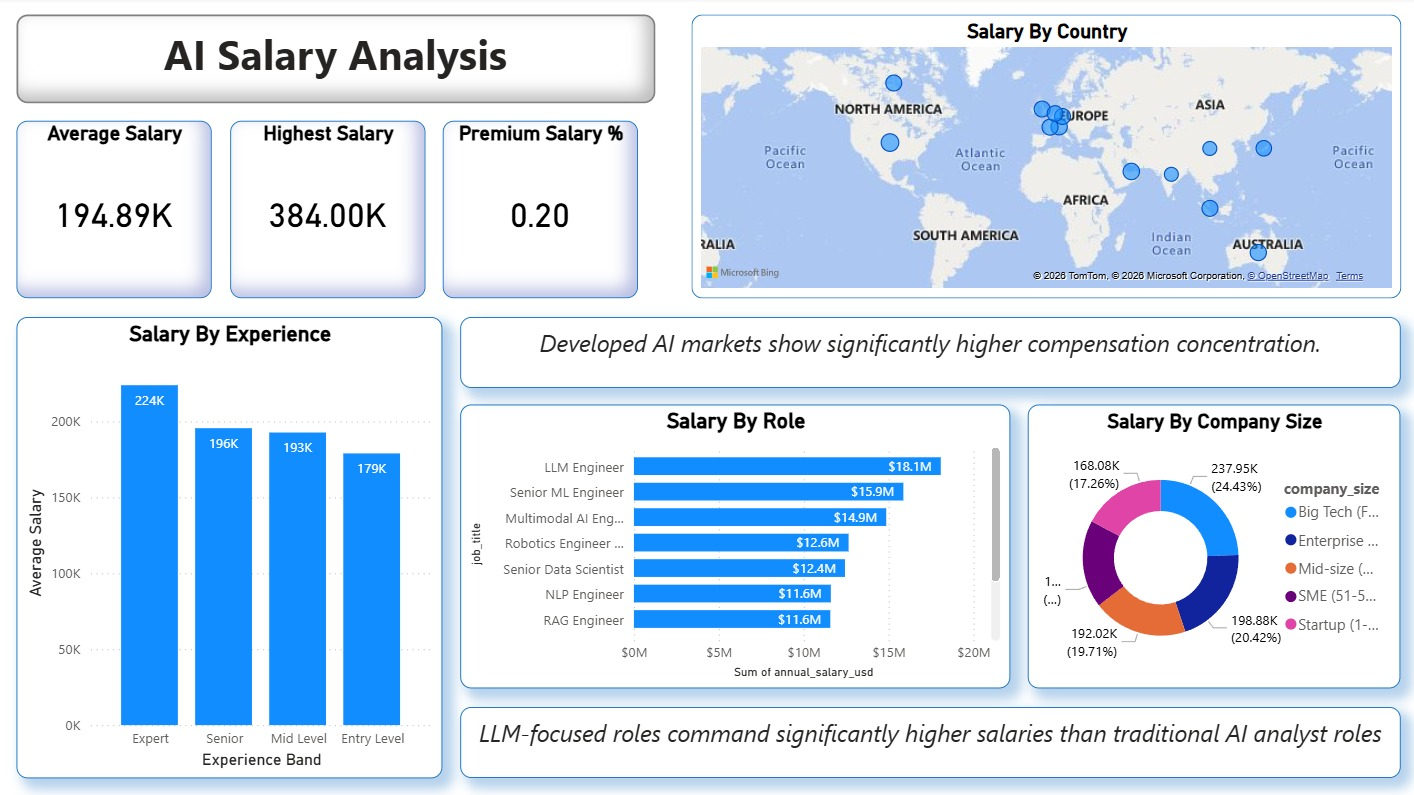

The page's visual inventory and layout, read from the dashboard file:
{"tool":"powerbi","page":{"name":"Salary","canvas":[1280,720],"ordinal":1},"visuals":[{"type":"textbox","box":[16,16,576,80],"z":0},{"type":"card","title":"Average Salary","fields":{"Values":["Measures (2).Average Salary"]},"box":[16,112,176,160],"z":1000},{"type":"card","title":"Highest Salary","fields":{"Values":["Measures (2).Highest Salary"]},"box":[208,112,176,160],"z":2000},{"type":"card","title":"Premium Salary %","fields":{"Values":["Measures (2).Premium Salary %"]},"box":[400,112,176,160],"z":3000},{"type":"clusteredBarChart","title":"Salary By Role","fields":{"Category":["AI JOBS.job_title"],"Y":["Sum(AI JOBS.annual_salary_usd)"]},"box":[416,368,496,256],"z":4000},{"type":"textbox","box":[416,640,848,64],"z":5000},{"type":"columnChart","title":"Salary By Experience","fields":{"Y":["Measures (2).Average Salary"],"Category":["AI JOBS.Experience Band"]},"box":[16,288,384,416],"z":6000},{"type":"map","title":"Salary By Country","fields":{"Category":["AI JOBS.country"],"Size":["Measures (2).Average Salary"]},"box":[624,16,640,256],"z":7000},{"type":"donutChart","title":"Salary By Company Size","fields":{"Category":["AI JOBS.company_size"],"Y":["Measures (2).Average Salary"]},"box":[928,368,336,256],"z":8000},{"type":"textbox","box":[416,288,848,64],"z":9000}]}

Visuals, with their boxes in screenshot pixels (x1, y1, x2, y2), scaled from the page's 1280x720 canvas onto the 1414x795 screenshot:
textbox: (18, 18, 654, 106)
"Average Salary" card: (18, 124, 212, 300)
"Highest Salary" card: (230, 124, 424, 300)
"Premium Salary %" card: (442, 124, 636, 300)
"Salary By Role" clusteredBarChart: (460, 406, 1007, 689)
textbox: (460, 707, 1396, 777)
"Salary By Experience" columnChart: (18, 318, 442, 777)
"Salary By Country" map: (689, 18, 1396, 300)
"Salary By Company Size" donutChart: (1025, 406, 1396, 689)
textbox: (460, 318, 1396, 389)
